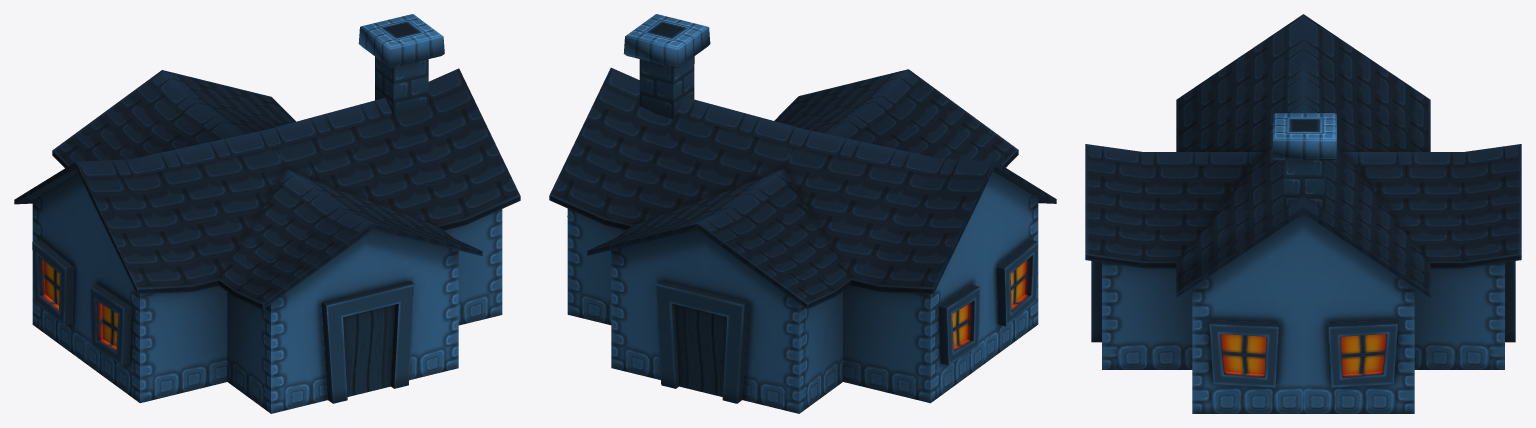
The model's file is House6.FBX.
The picture shows the model from 3 angles, left to right: view 1: azimuth 30°, elevation 25°; view 2: azimuth 150°, elevation 25°; view 3: azimuth 270°, elevation 25°; orthographic projection. The views are drawn at different scales.
Visible parts, largest first — view 1: House6; view 2: House6; view 3: House6.
Boxes of the visible parts, x1=… form: House6: x1=14, y1=14, x2=520, y2=413; House6: x1=549, y1=14, x2=1056, y2=413; House6: x1=1085, y1=14, x2=1521, y2=413.
Bounding box in the file's own units: 251 × 161 × 239.
